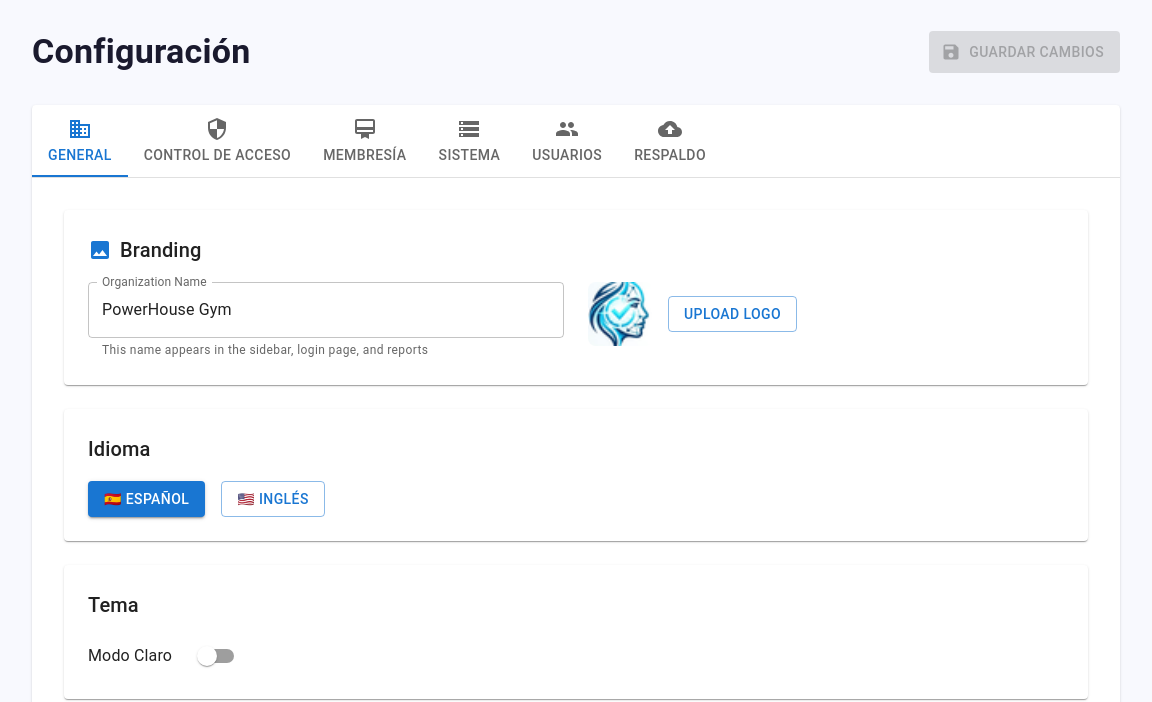
Scenario: Settings — Backup tab (remote backup config) › admin: typing a password marks the form dirty and disables Test
This screenshot has width=1152, height=702.
Click the tab "Respaldo": {"x": 670, "y": 141} [618,105,722,177]
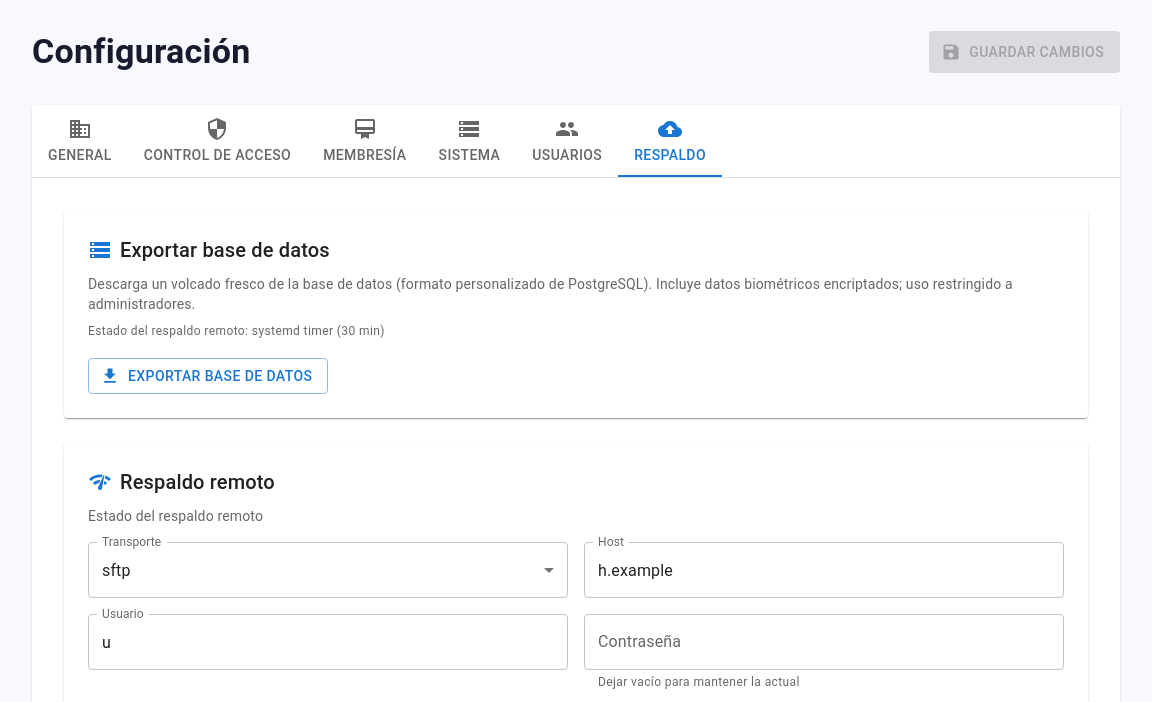
In the password field labelled "Contraseña": {"x": 824, "y": 642} [584,614,1064,670], type "newsecret"
(page scrolled)
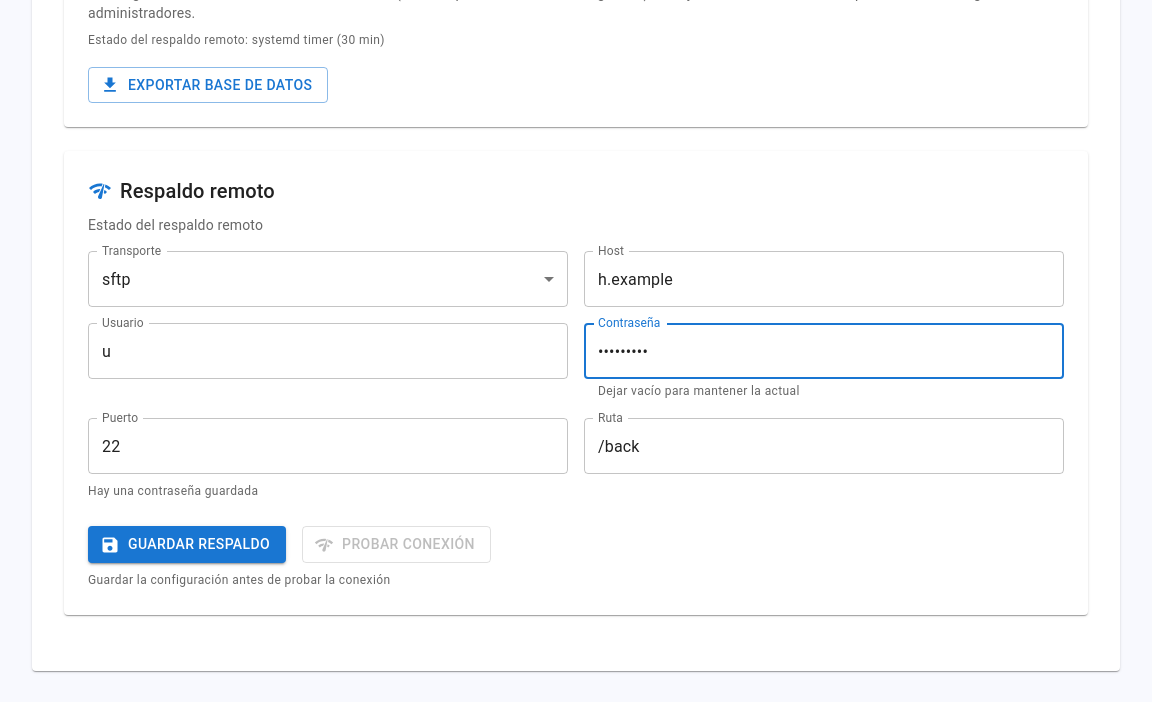
expect the button "Probar conexión" is disabled: met, box [302,526,491,563]
